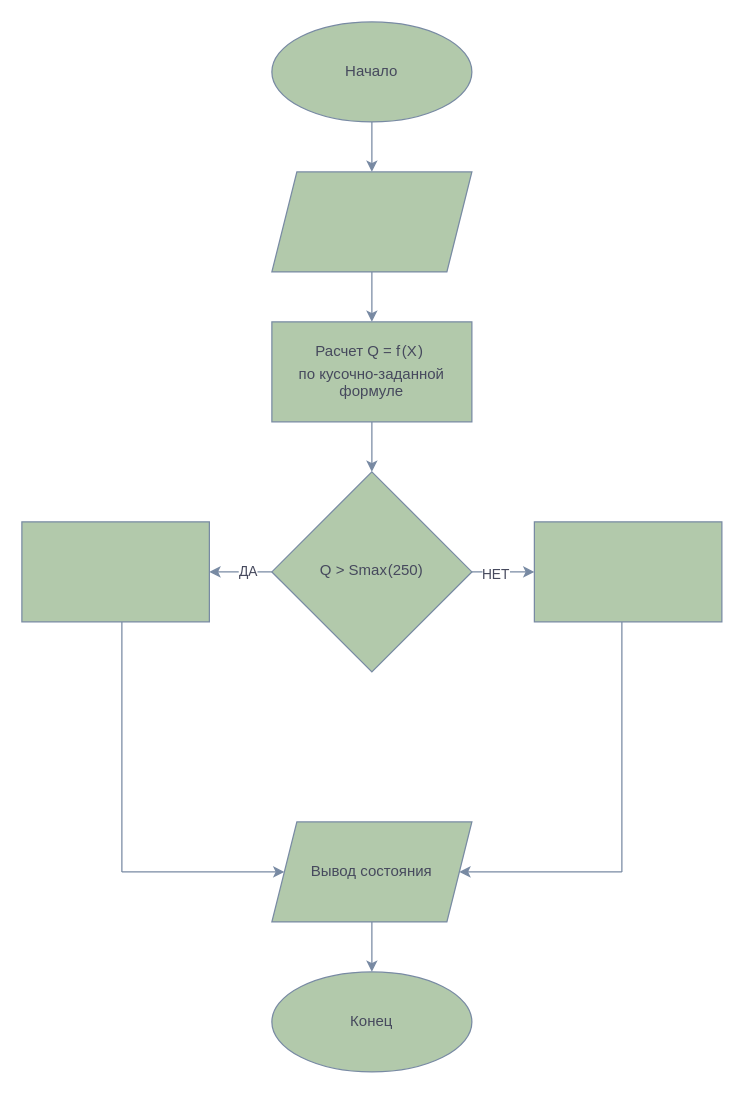
Image size: 744x1094. Some labels were removed from this diagram. The centre of each missing label's shape, as x and y in pixels:
"Ввод X (напряжение, В)" goes at pixel 371 221.
"Состояние: Отклонение" goes at pixel 115 571.
"Состояние: Штатный режим" goes at pixel 627 571.
